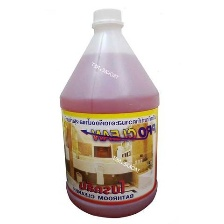cleaning_solution: (57, 4, 162, 220)
